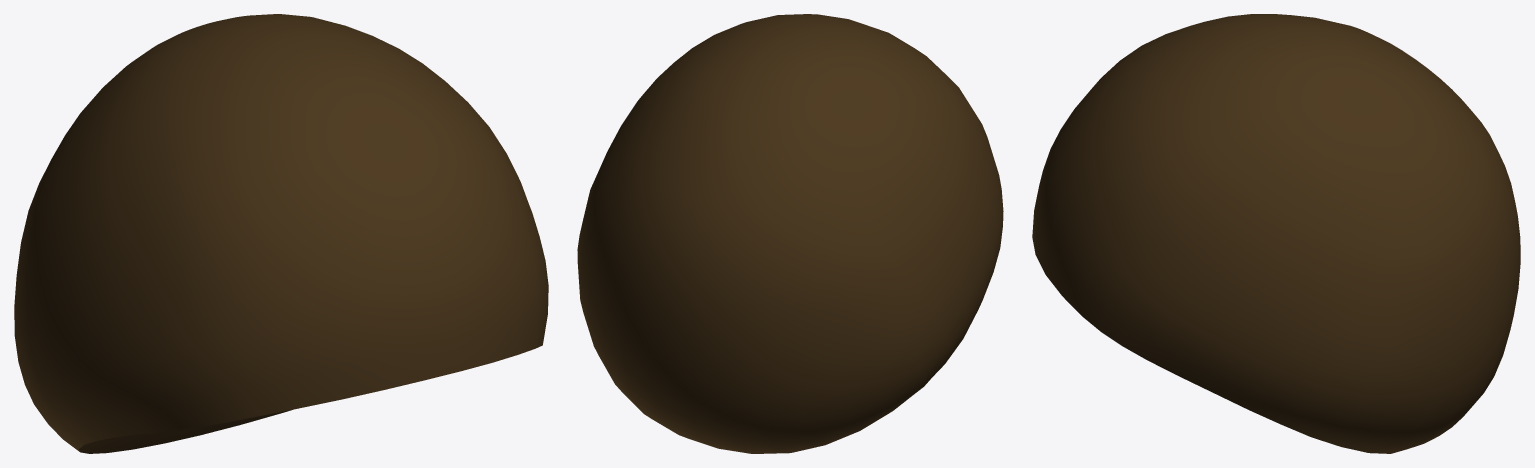
Rendered from hair_hair_011.gltf.
The picture shows the model from 3 angles, left to right: view 1: azimuth 30°, elevation 25°; view 2: azimuth 150°, elevation 25°; view 3: azimuth 270°, elevation 25°; orthographic projection. The views are drawn at different scales.
Parts seen in each view (by area): view 1: hair.011; view 2: hair.011; view 3: hair.011.
Boxes of the visible parts, x1,y1,x2,y2 form: hair.011: (14,14,548,453); hair.011: (577,14,1003,453); hair.011: (1032,14,1520,453).
Size of the model in its own units: 0.7091 by 0.7013 by 0.7897.
